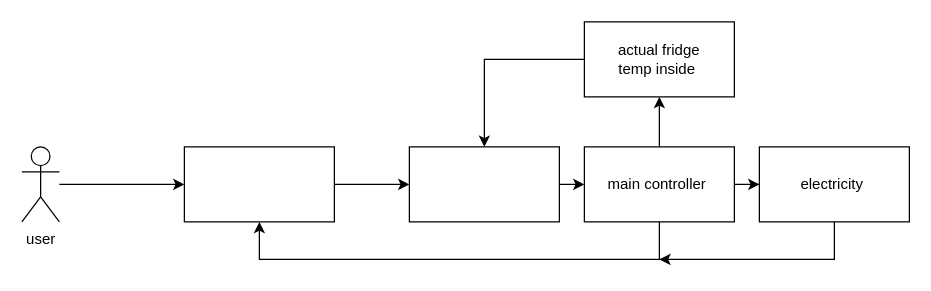
The diagram is 931 pixels wide and 291 high, and some of its shapes have lost their labels. Each missing label, with the box of its shape:
medicine & temprature: (408, 146, 559, 222)
website: (183, 146, 334, 222)
